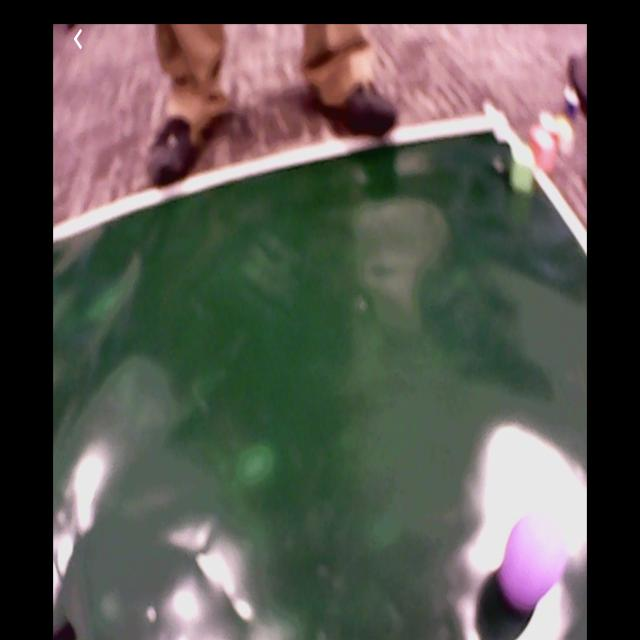ball: (503, 517, 566, 610)
